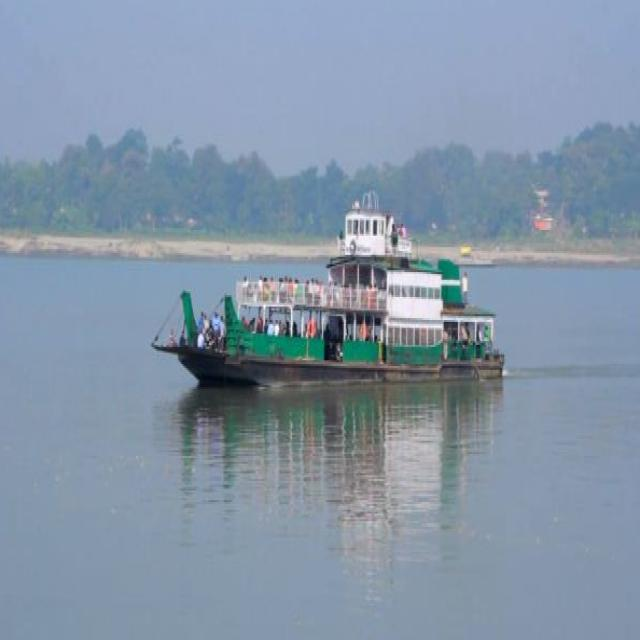passenger ship: (122, 190, 502, 400)
